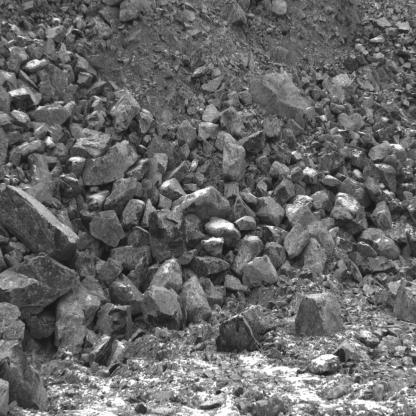stone: (0, 185, 80, 262), (0, 251, 80, 319), (249, 70, 315, 128), (83, 140, 141, 187), (147, 208, 188, 262), (295, 292, 343, 337), (140, 286, 187, 331), (172, 186, 230, 222), (216, 312, 261, 353), (330, 193, 368, 237), (179, 276, 213, 324), (358, 225, 400, 262), (94, 304, 133, 342), (363, 176, 402, 214), (103, 178, 143, 215), (109, 274, 144, 315), (109, 90, 141, 133), (88, 210, 125, 247), (70, 128, 112, 159), (204, 215, 241, 247), (111, 244, 153, 271), (26, 102, 71, 127), (243, 255, 278, 286), (305, 220, 335, 256), (338, 178, 370, 211), (296, 239, 326, 273), (283, 222, 309, 261), (152, 259, 183, 291), (286, 202, 321, 230), (393, 281, 416, 322), (222, 143, 246, 182), (192, 255, 230, 278), (255, 197, 285, 226), (219, 106, 247, 137), (229, 195, 258, 223), (238, 130, 266, 159), (120, 199, 146, 230), (184, 213, 206, 249), (145, 153, 169, 186), (319, 142, 344, 173), (70, 251, 96, 280), (128, 255, 149, 290), (9, 87, 40, 110), (230, 246, 250, 281), (271, 178, 296, 206), (236, 233, 263, 258), (264, 242, 287, 271), (176, 120, 198, 150), (370, 201, 392, 231), (28, 153, 51, 181), (101, 258, 123, 286), (376, 162, 396, 192), (126, 158, 152, 181), (368, 140, 393, 163), (160, 178, 186, 200), (201, 237, 224, 259), (263, 116, 284, 140), (86, 191, 110, 212), (127, 226, 150, 247), (141, 180, 159, 205), (198, 121, 220, 141), (262, 227, 288, 243), (38, 80, 55, 104), (11, 111, 31, 131), (339, 112, 356, 133), (202, 104, 220, 123), (235, 216, 256, 231), (271, 163, 290, 179)
